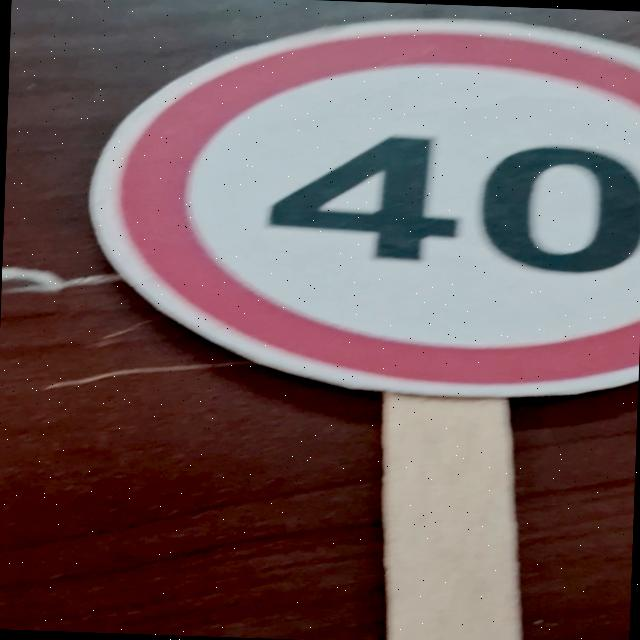Speed40: (76, 0, 640, 407)
